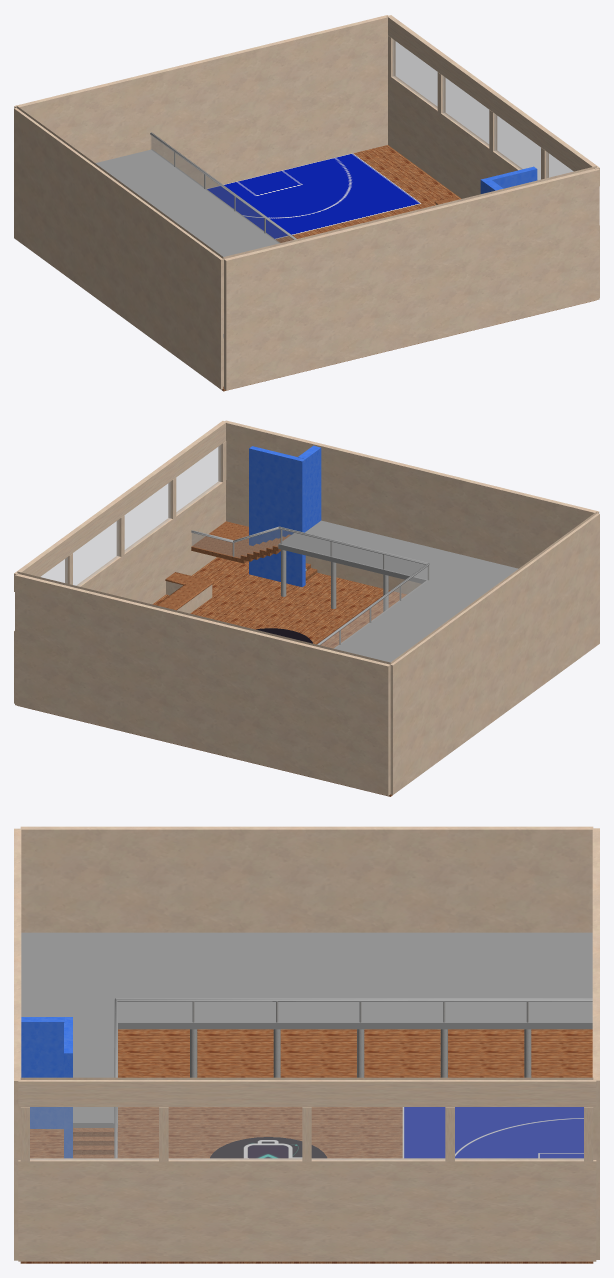
3 views of the same model, one above another, from view 1: azimuth 30°, elevation 25°; view 2: azimuth 150°, elevation 25°; view 3: azimuth 270°, elevation 25° (orthographic). The views are drawn at different scales.
Parts seen in each view (by area): view 1: VIS_wall_south, VIS_wall_north, VIS_wall_west, VIS_court, VIS_wall_east_sill, VIS_balcony_west, VIS_wall_east_lintel, VIS_floor, VIS_wall_east_glass_3, VIS_wall_east_glass_4, VIS_ceiling, VIS_wall_east_glass_2 (+2 smaller); view 2: VIS_wall_north, VIS_wall_west, VIS_wall_south, VIS_floor, VIS_wall_east_sill, VIS_balcony_west, VIS_stairs_divider, VIS_balcony_south, VIS_wall_east_lintel, VIS_wall_east_glass_3, VIS_wall_east_glass_2, VIS_wall_east_glass_1 (+10 smaller); view 3: VIS_wall_west, VIS_wall_east_sill, VIS_balcony_west, VIS_floor, VIS_wall_east_lintel, VIS_court, VIS_wall_east_glass_2, VIS_wall_east_glass_3, VIS_wall_east_glass_1, VIS_wall_east_glass_4, VIS_balcony_stair_wall, VIS_balcony_south (+13 smaller).
Boxes of the visible parts, x1,y1,x2,y2 form: VIS_wall_south: [224, 169, 599, 390]; VIS_wall_north: [14, 15, 387, 188]; VIS_wall_west: [14, 108, 223, 389]; VIS_court: [207, 153, 421, 239]; VIS_wall_east_sill: [388, 75, 599, 297]; VIS_balcony_west: [95, 149, 279, 338]; VIS_wall_east_lintel: [386, 15, 599, 185]; VIS_floor: [221, 145, 594, 391]; VIS_wall_east_glass_3: [443, 76, 488, 146]; VIS_wall_east_glass_4: [393, 39, 437, 108]; VIS_ceiling: [16, 106, 596, 261]; VIS_wall_east_glass_2: [494, 114, 540, 179]; VIS_wall_north: [15, 574, 390, 795]; VIS_wall_west: [390, 513, 599, 794]; VIS_wall_south: [225, 420, 599, 594]; VIS_floor: [17, 557, 406, 796]; VIS_wall_east_sill: [14, 480, 225, 703]; VIS_balcony_west: [334, 555, 518, 662]; VIS_stairs_divider: [249, 446, 305, 587]; VIS_balcony_south: [278, 520, 461, 583]; VIS_wall_east_lintel: [14, 421, 226, 591]; VIS_wall_east_glass_3: [73, 520, 119, 586]; VIS_wall_east_glass_2: [125, 482, 170, 551]; VIS_wall_east_glass_1: [176, 445, 220, 514]; VIS_wall_west: [20, 826, 593, 932]; VIS_wall_east_sill: [18, 1158, 596, 1261]; VIS_balcony_west: [21, 932, 592, 1029]; VIS_floor: [20, 1029, 593, 1263]; VIS_wall_east_lintel: [18, 1078, 596, 1106]; VIS_court: [402, 1107, 583, 1158]; VIS_wall_east_glass_2: [169, 1107, 301, 1159]; VIS_wall_east_glass_3: [312, 1107, 444, 1159]; VIS_wall_east_glass_1: [30, 1107, 158, 1159]; VIS_wall_east_glass_4: [455, 1107, 583, 1159]; VIS_balcony_stair_wall: [21, 1017, 64, 1128]; VIS_balcony_south: [46, 1023, 117, 1129].
Bounding box in the file's own units: 25.32 × 8.6 × 24.55.
9 materials, 6 textured.
